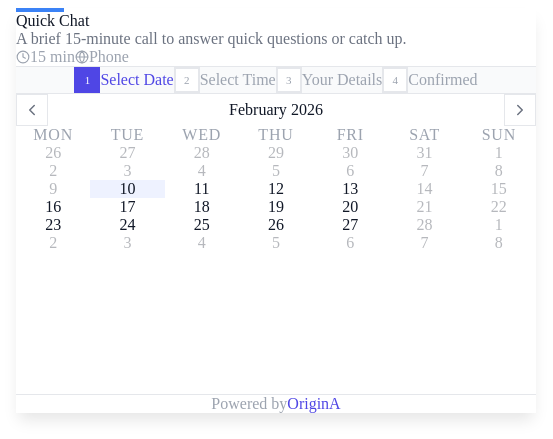
Scenario: PublicBookingPage › availability integration › shows available time slots from engine when a date is selected
Click the cell "10" at coordinates (127, 189), box [90,180,165,198]
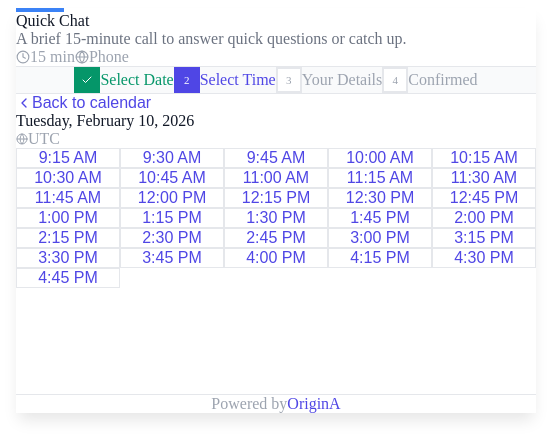
Now the option "9:15 AM" is shown, box [16,148,120,168]
